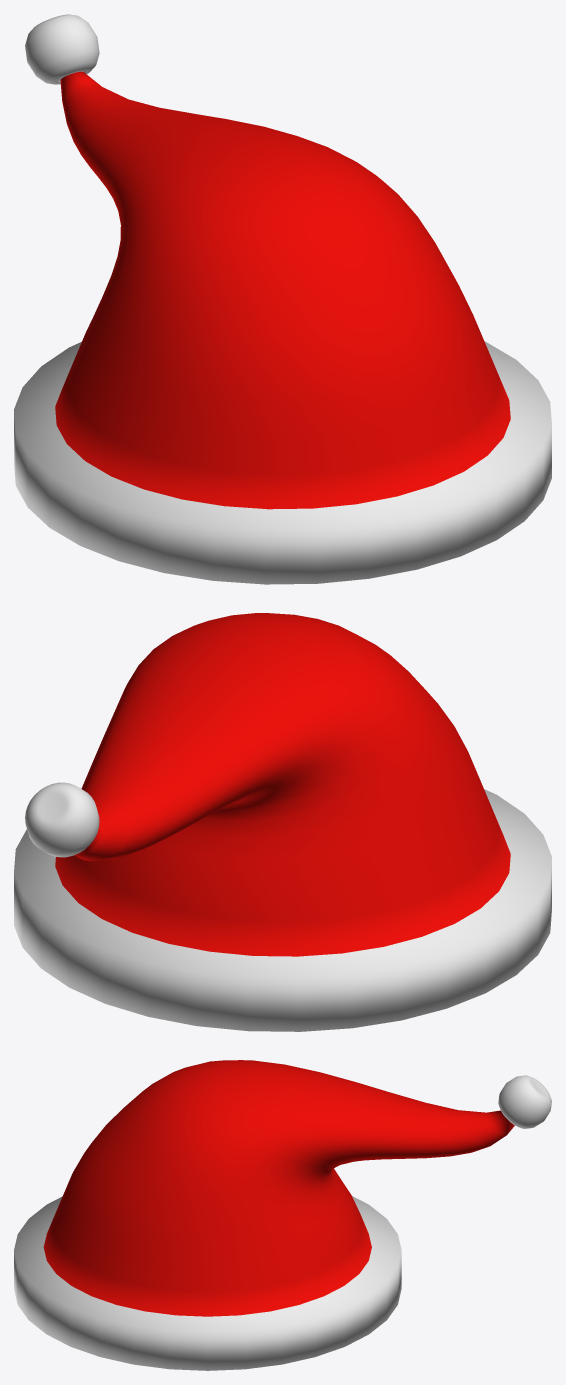
File: SantaHat.fbx
3 renders of one model, top to bottom at view 1: azimuth 30°, elevation 25°; view 2: azimuth 150°, elevation 25°; view 3: azimuth 270°, elevation 25°, orthographic. The views are drawn at different scales.
Visible parts, largest first — view 1: santahat; view 2: santahat; view 3: santahat.
Part boxes in pixels (<box>): santahat: <box>14,14,551,584</box>; santahat: <box>14,613,551,1031</box>; santahat: <box>14,1060,551,1370</box>.
Size of the model in its own units: 200 by 122 by 278.
